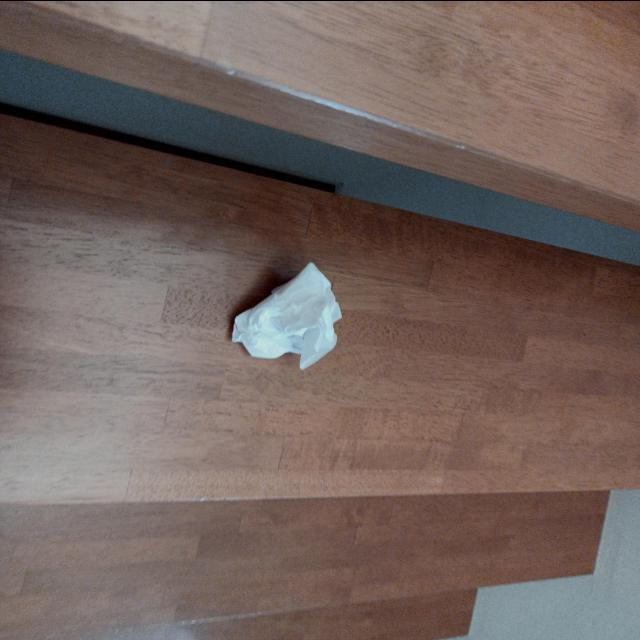Paper: (214, 249, 366, 380)
